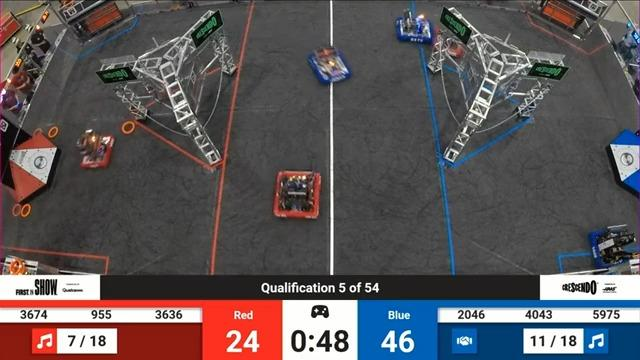robot: (265, 152, 328, 229), (589, 216, 640, 278), (301, 46, 355, 89), (72, 124, 117, 175), (394, 6, 436, 46), (428, 28, 472, 62)
